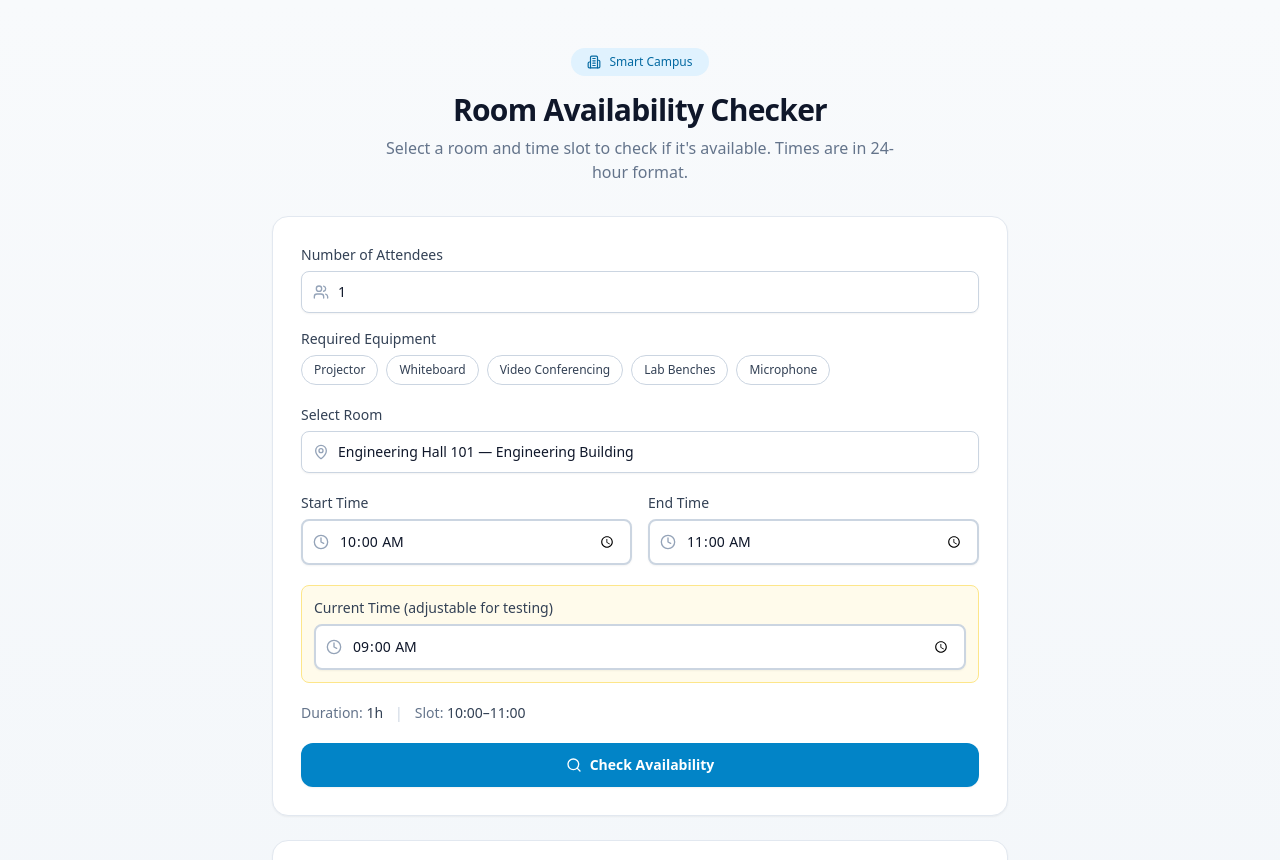
it: AI explanation UI › clears the explanation when switching rooms
This screenshot has width=1280, height=860.
Click the button "Check Availability": (640, 765) [301,743,979,787]
(page scrolled)
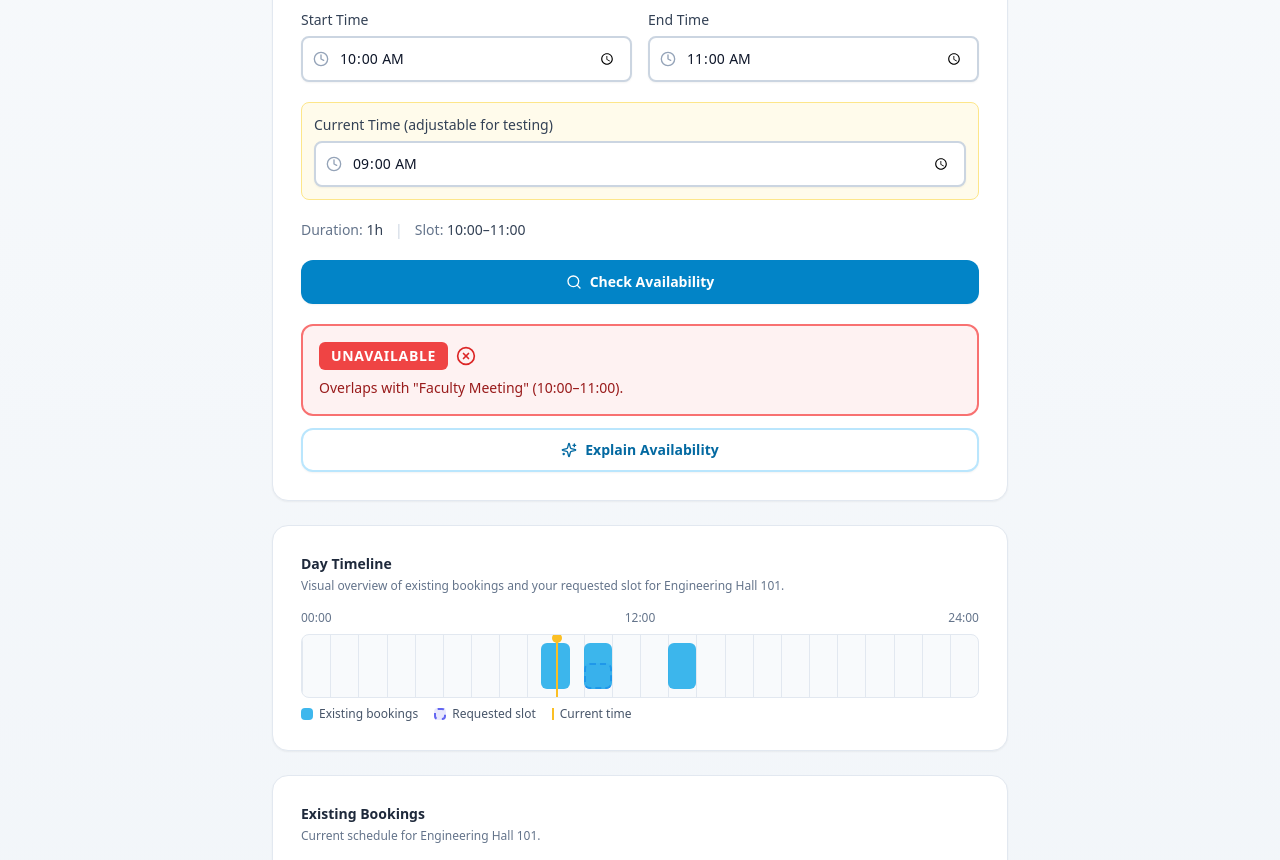
Click the button "Explain Availability": (640, 450) [301,428,979,472]
(page scrolled)
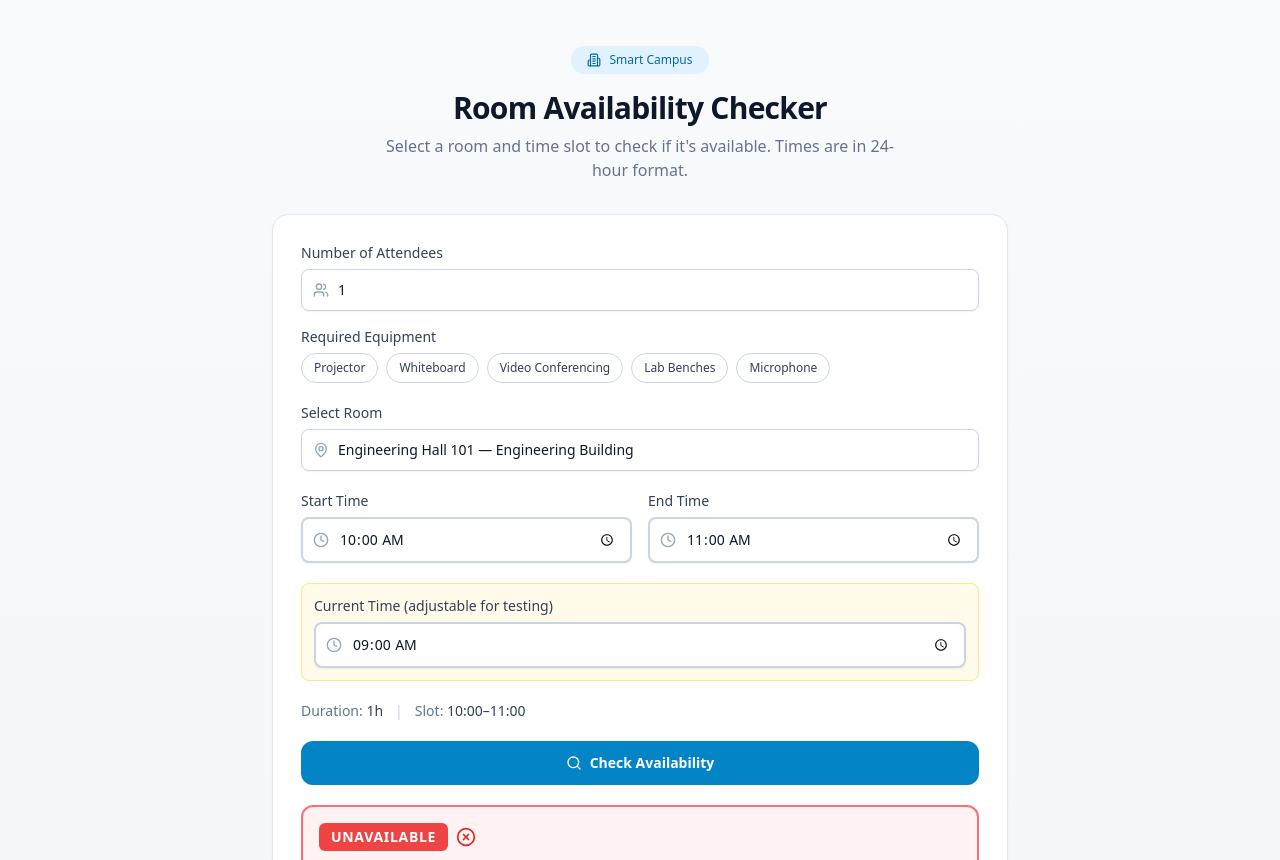
# Switch room — should clear both result and explanation
Select "Library Study Room B — Main Library" in the dropdown labelled "Select Room": (640, 450) [301,429,979,471]
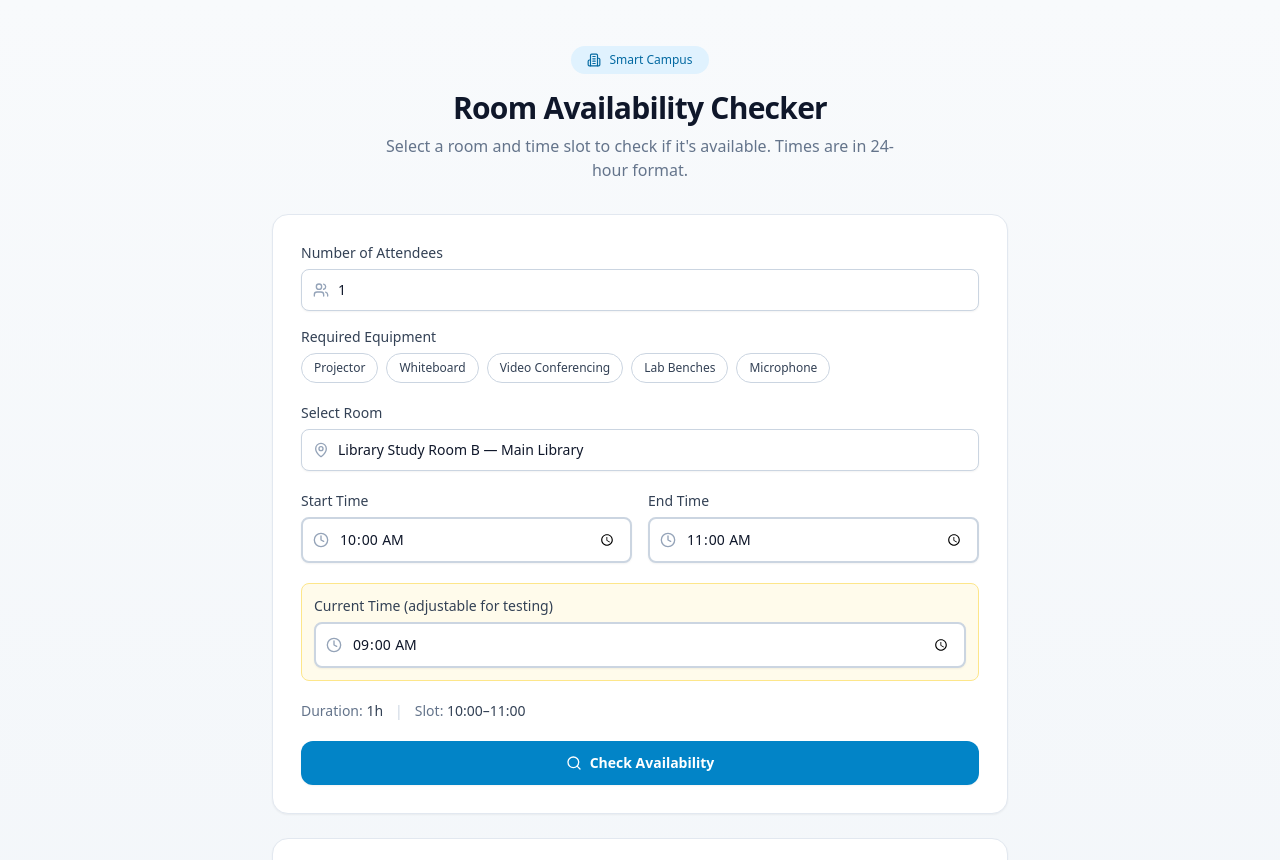
Now the text "Unavailable" is gone
